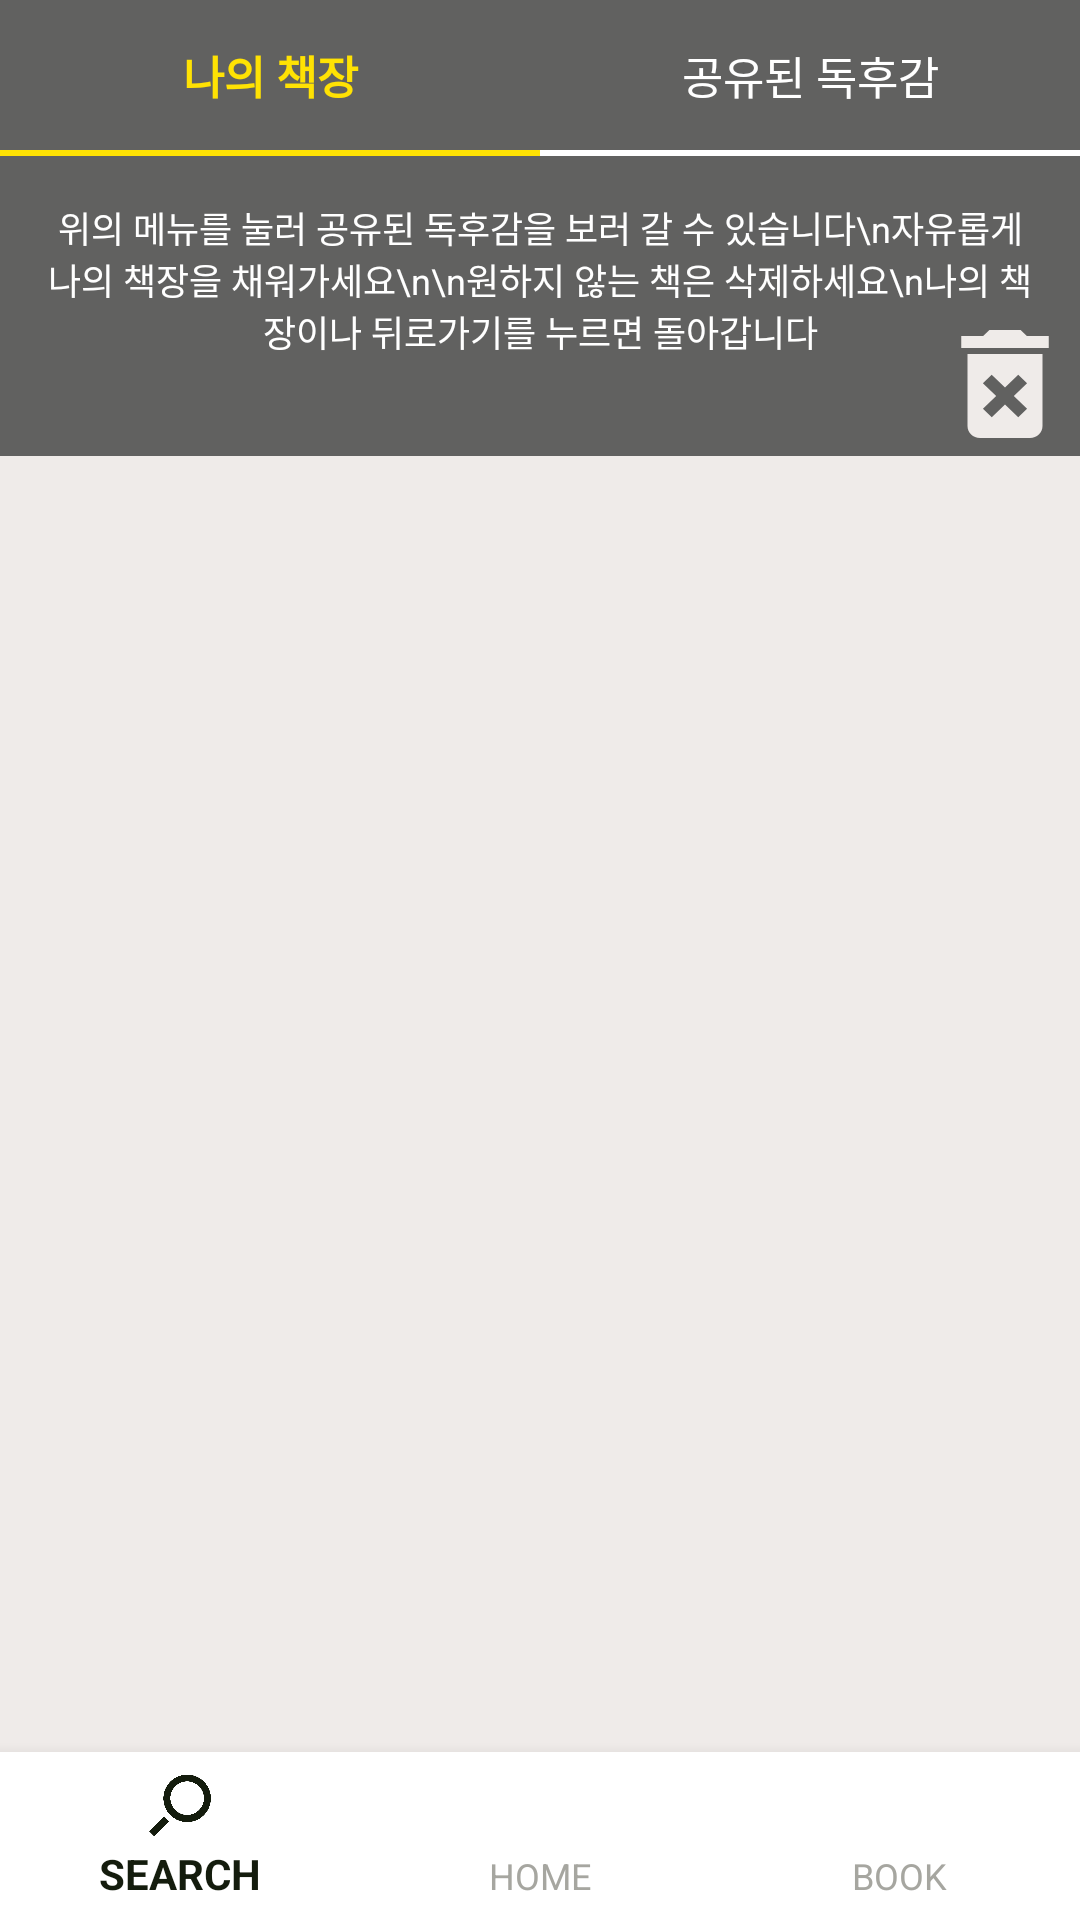

Locate icon controls on the screen. Image size 1080*1920, boxes as {"x1": x1, "y1": y1, "x2": x2, "y2": y2}.
delete forever: {"x1": 961, "y1": 330, "x2": 1049, "y2": 438}
